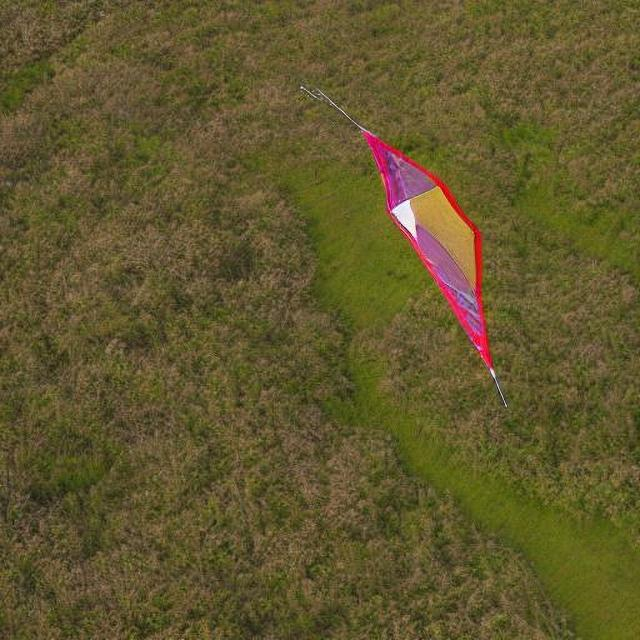floating object: (362, 125, 502, 403)
